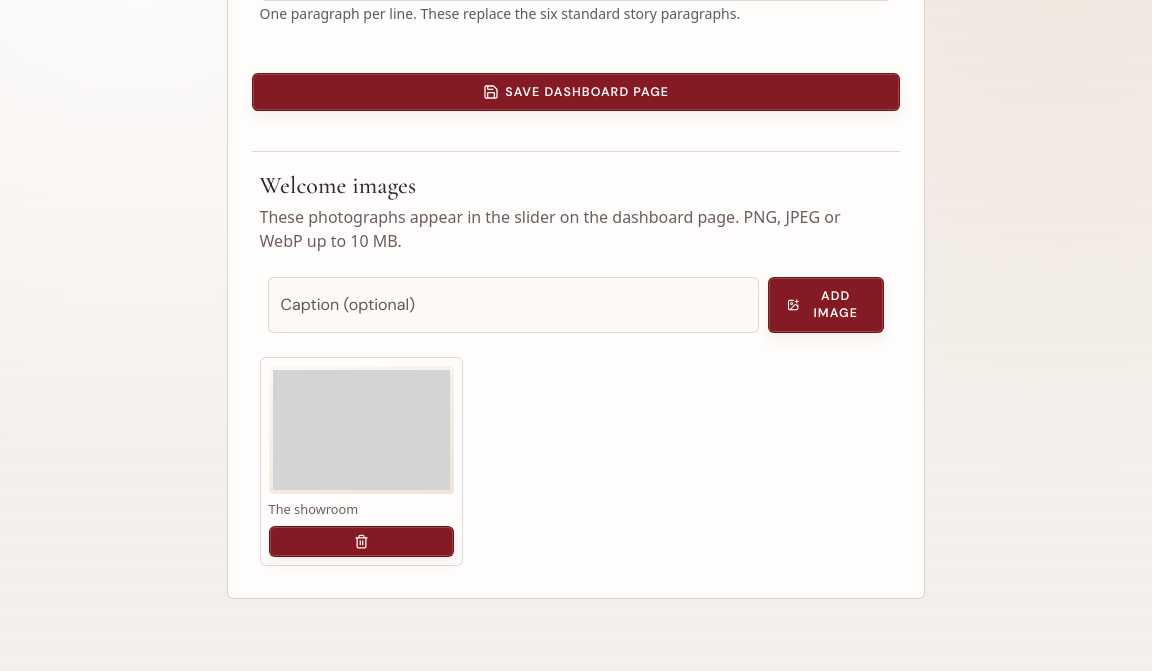
Test: Dashboard page administration › removes a welcome image again
(page scrolled)
Step 1. Click the button named "Remove image" → (361, 541), box [268,526,454,557]
(page scrolled)
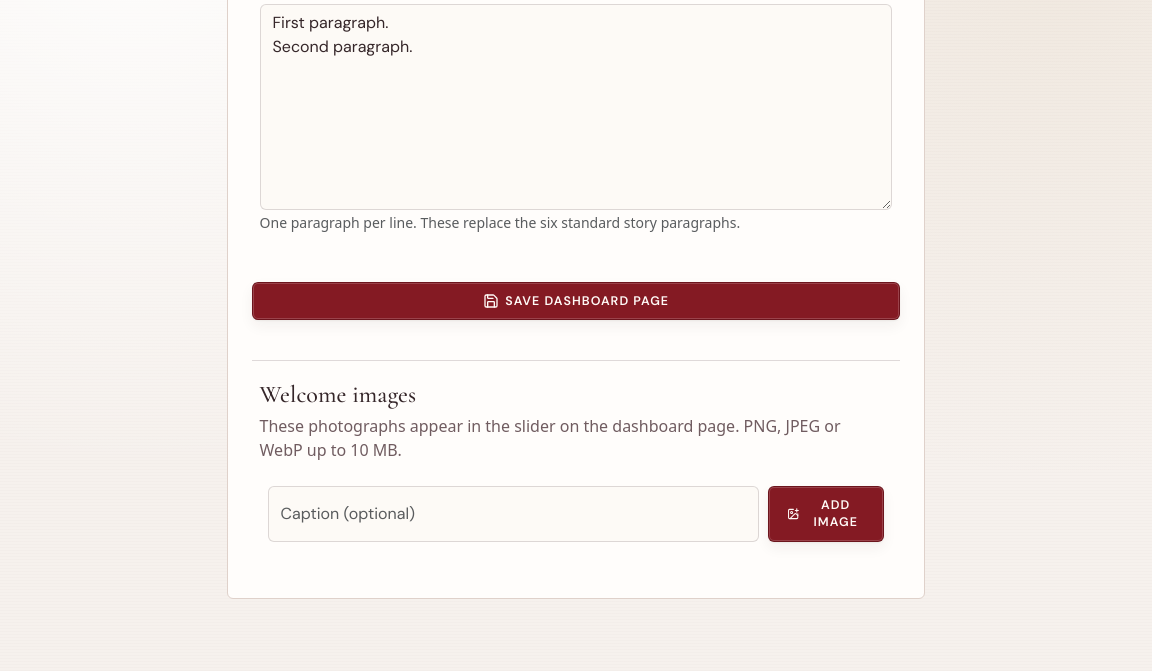
Expected: the text with alt text "The showroom" is gone
